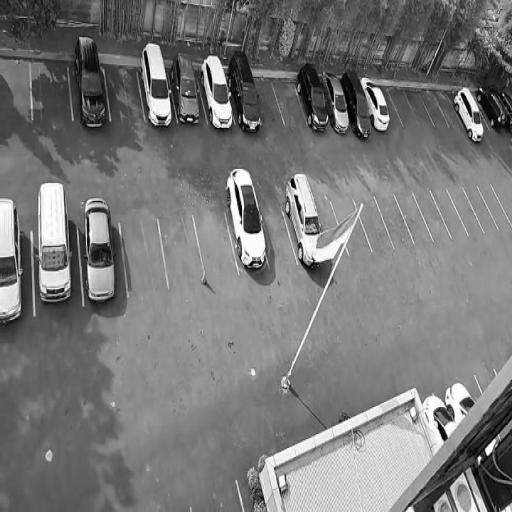Car: (221, 161, 273, 279), (279, 164, 331, 274), (32, 177, 73, 309), (82, 194, 118, 303), (0, 188, 27, 325), (195, 48, 237, 134), (224, 46, 265, 134), (72, 32, 108, 130), (165, 46, 205, 130), (138, 40, 176, 128), (292, 59, 334, 135), (338, 65, 375, 142), (319, 65, 355, 136), (420, 387, 460, 450), (450, 83, 488, 149), (360, 76, 395, 133), (473, 81, 509, 135), (438, 378, 478, 426)
Space Available: (120, 220, 167, 297), (158, 215, 206, 289), (192, 213, 239, 281), (30, 57, 73, 121), (330, 199, 371, 256), (0, 53, 32, 126), (104, 63, 144, 121), (260, 205, 297, 267), (354, 195, 394, 252), (374, 195, 414, 248), (314, 201, 348, 260), (412, 191, 451, 241), (395, 193, 433, 244), (430, 190, 468, 239), (447, 187, 483, 233), (271, 77, 306, 124), (463, 185, 498, 232), (478, 185, 511, 232), (253, 77, 284, 125), (387, 87, 418, 127), (418, 87, 449, 127), (402, 87, 434, 125), (433, 90, 462, 127), (380, 84, 403, 126), (460, 374, 483, 404), (474, 369, 497, 395)
